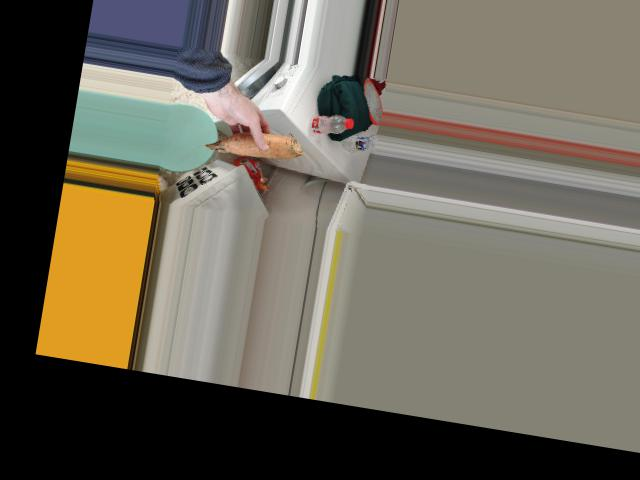sweet_potato: (207, 120, 307, 165)
